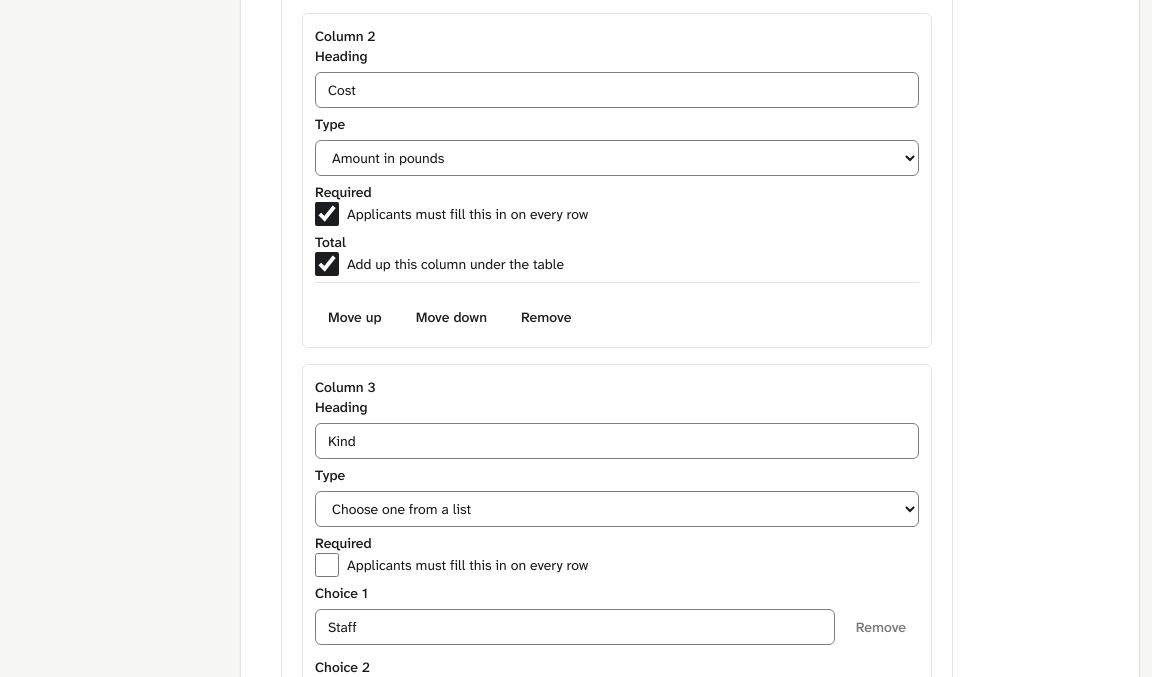
Scenario: the columns of a table › are removed with a button, which leaves the cursor in the column that takes its place
(page scrolled)
Click the button "Remove" below "Add up this column under the table". click: point(546, 317)
box: [508,299,584,335]
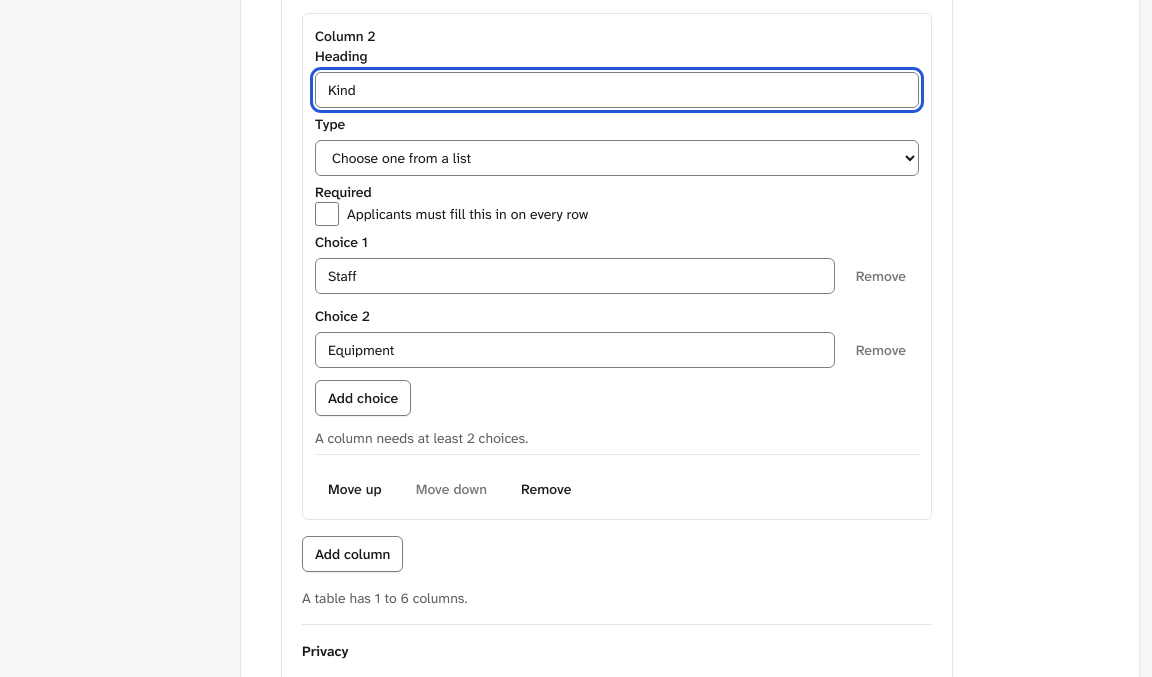
Click the 4th button "Remove". click: point(546, 489)
box: [508,471,584,507]
(page scrolled)
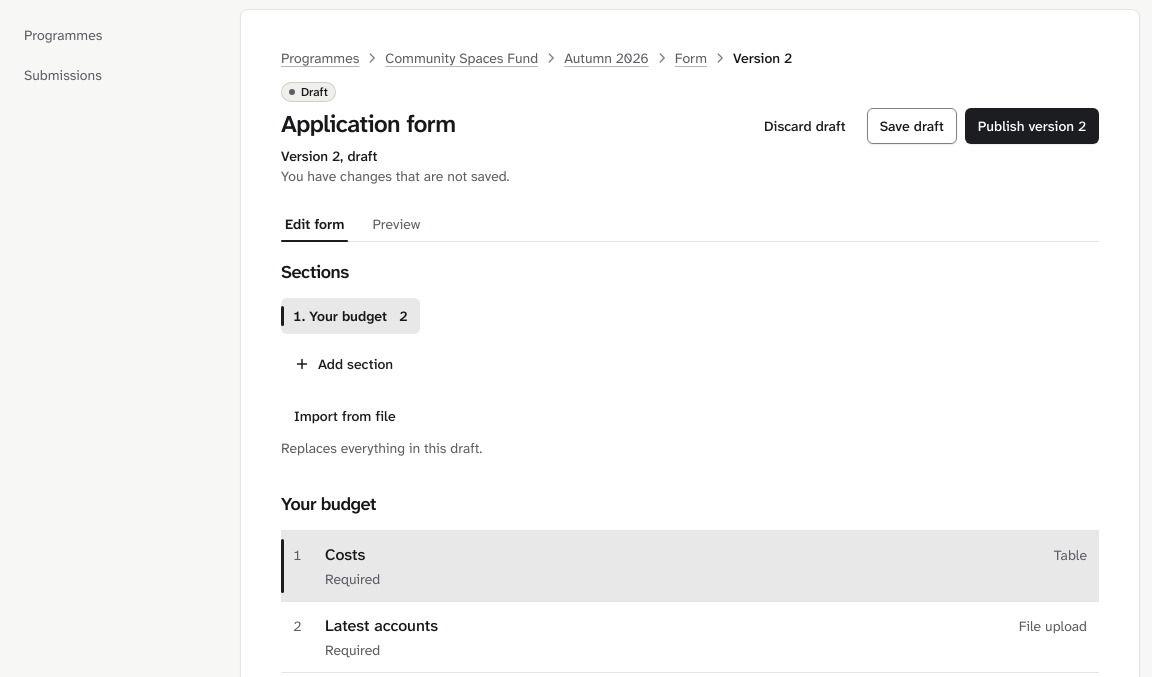
Click the button "Save draft". click: point(912, 126)
box: [867,108,957,144]
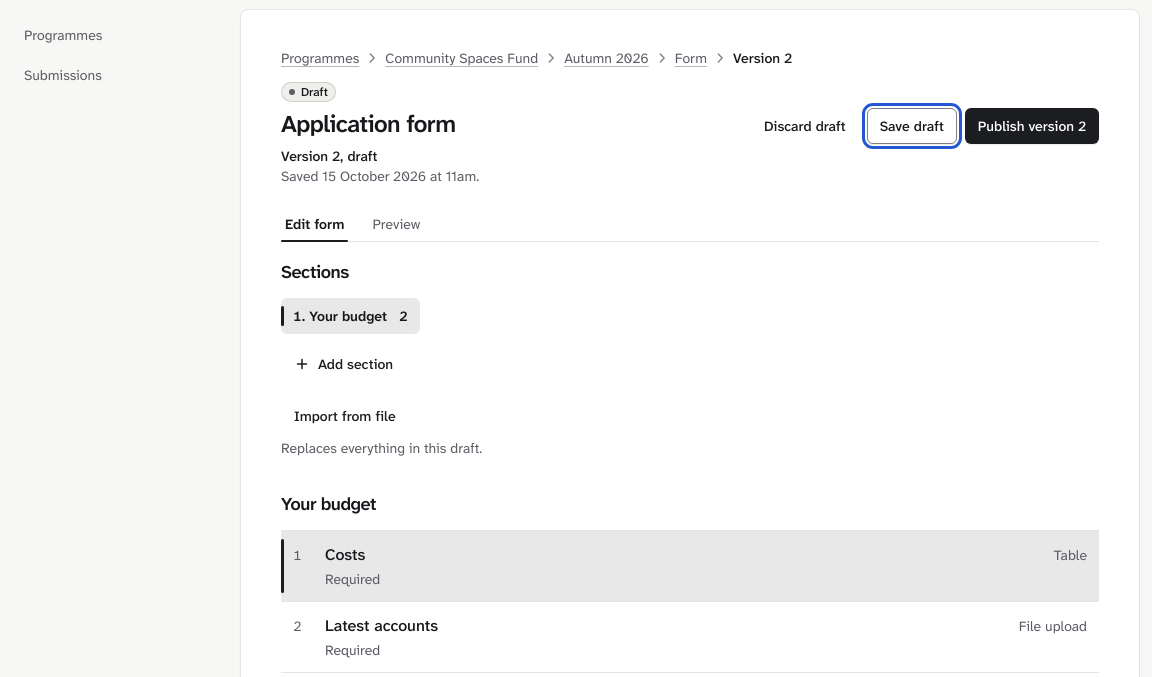
Result: the text "Saved 15 October 2026 at 11am." is shown at [281,167,479,185]
